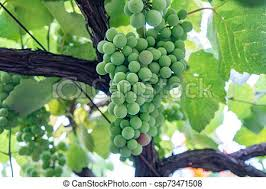grapes: (97, 8, 182, 157)
